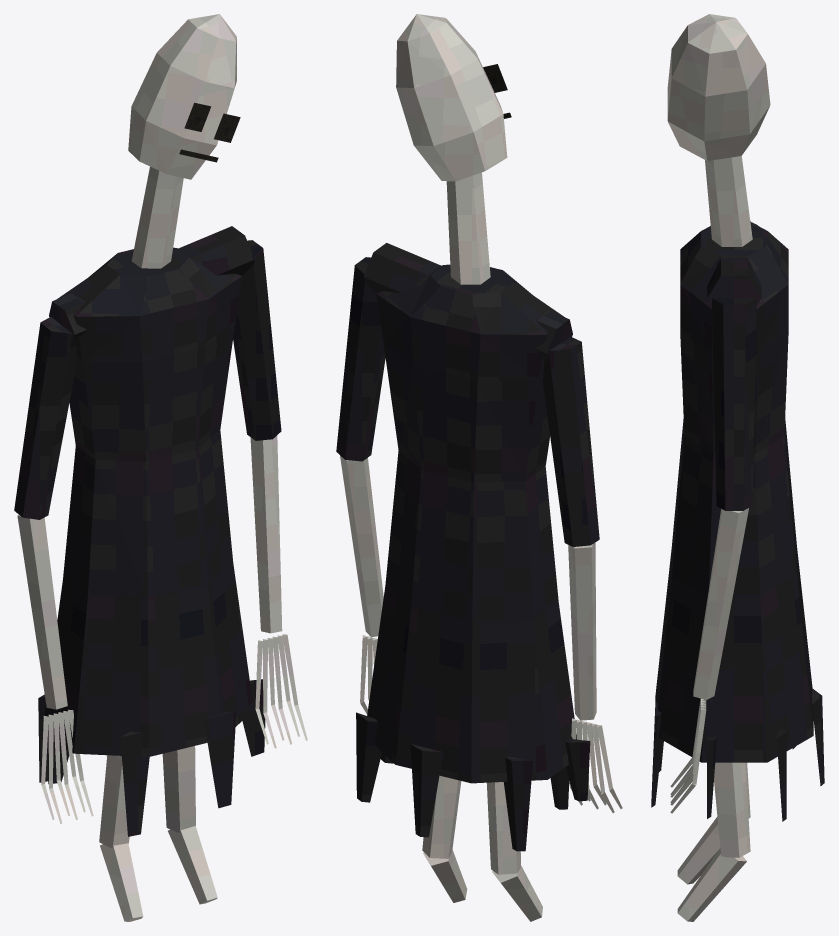
File: durmiente.obj
The picture shows the model from 3 angles, left to right: view 1: azimuth 30°, elevation 25°; view 2: azimuth 150°, elevation 25°; view 3: azimuth 270°, elevation 25°; orthographic projection. The views are drawn at different scales.
Parts seen in each view (by area): view 1: durmiente; view 2: durmiente; view 3: durmiente.
Boxes of the visible parts, x1=… form: durmiente: x1=14, y1=14, x2=307, y2=921; durmiente: x1=336, y1=14, x2=622, y2=921; durmiente: x1=651, y1=14, x2=824, y2=921.
Size of the model in its own units: 0.6816 by 2.23 by 0.3838.
3 materials, 3 textured.
